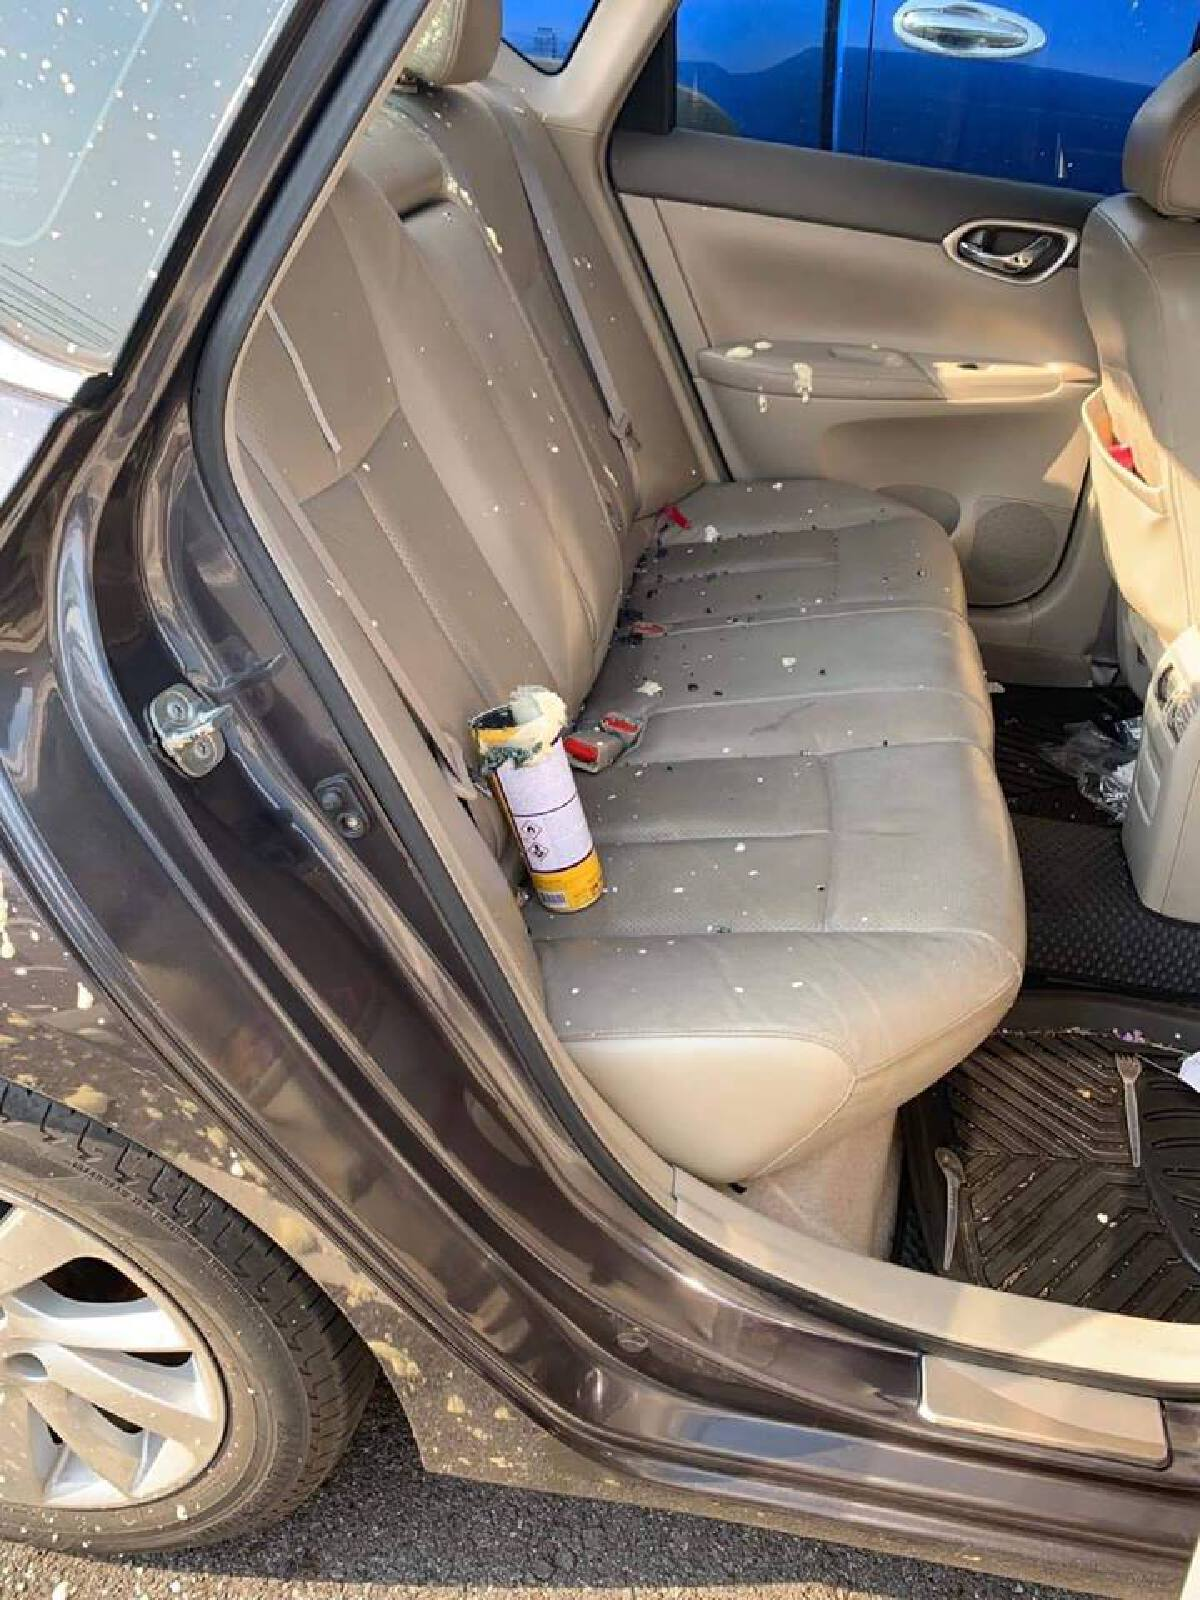Aerosol_cans: (463, 687, 619, 923)
